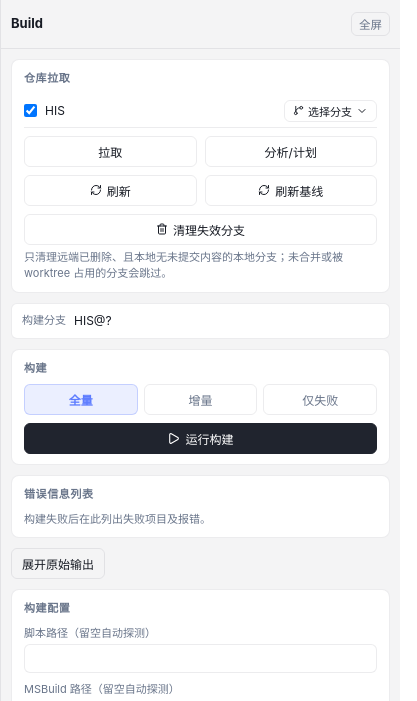
Test: BuildPanel branch switching › filters local and remote branches by query
Expected: the text "选择分支" is shown, [308, 102, 352, 118]
Click the button "选择分支" at (330, 110), box [284, 100, 377, 122]
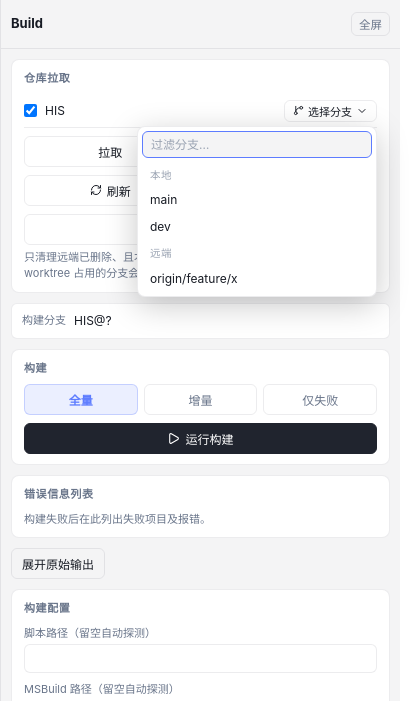
Expected: the text "main" is shown, [150, 192, 177, 207]
Expected: the field with class "build-branch-filter" is shown
Type "feat" into the field with class "build-branch-filter" at (257, 144), box [142, 130, 372, 158]
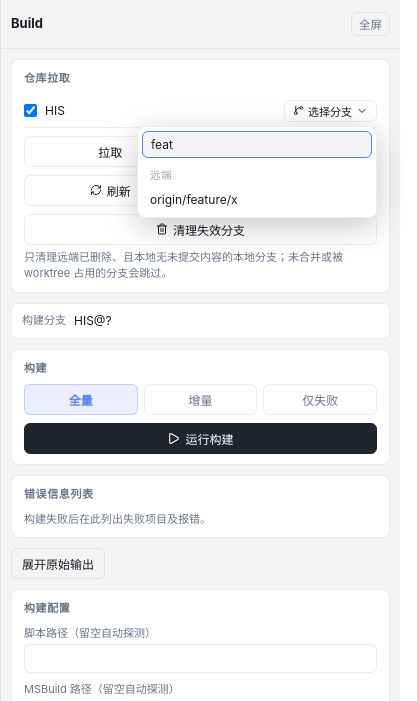
Expected: the text "origin/feature/x" is shown, [150, 192, 238, 207]
Expected: the button "main" is gone
Expected: the button "dev" is gone
Replace the text in the field with class "build-branch-filter" with "zzz" at (257, 144), box [142, 130, 372, 158]
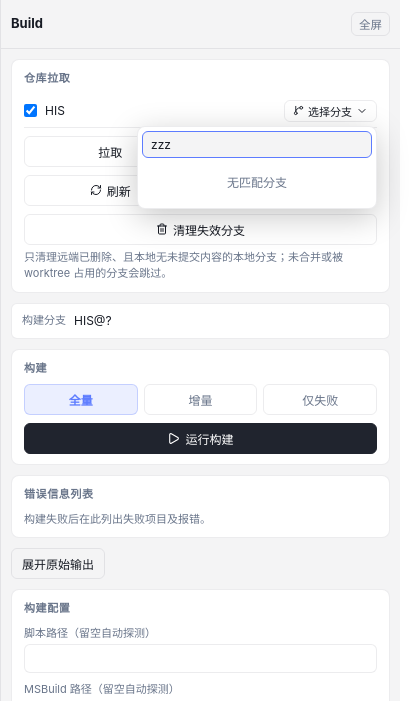
Expected: the text "无匹配分支" is shown, [227, 174, 287, 190]
